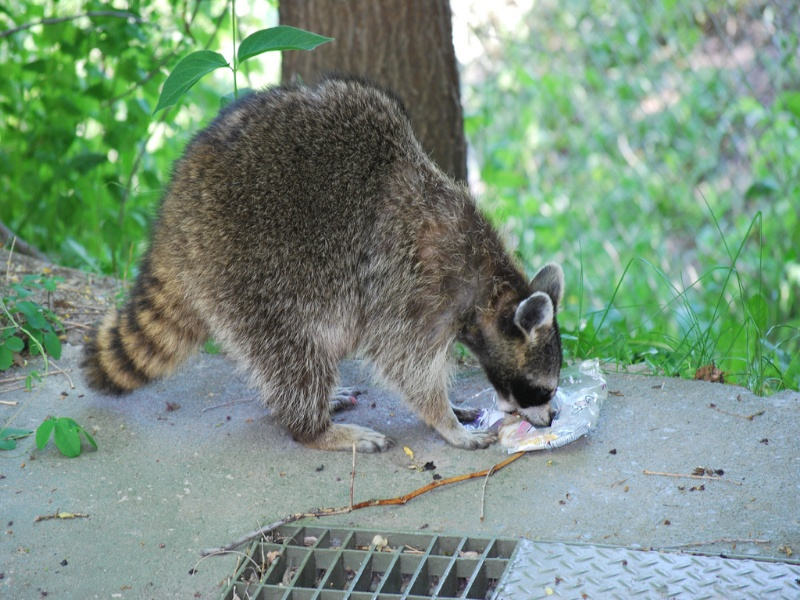raccoon: (84, 82, 567, 458)
